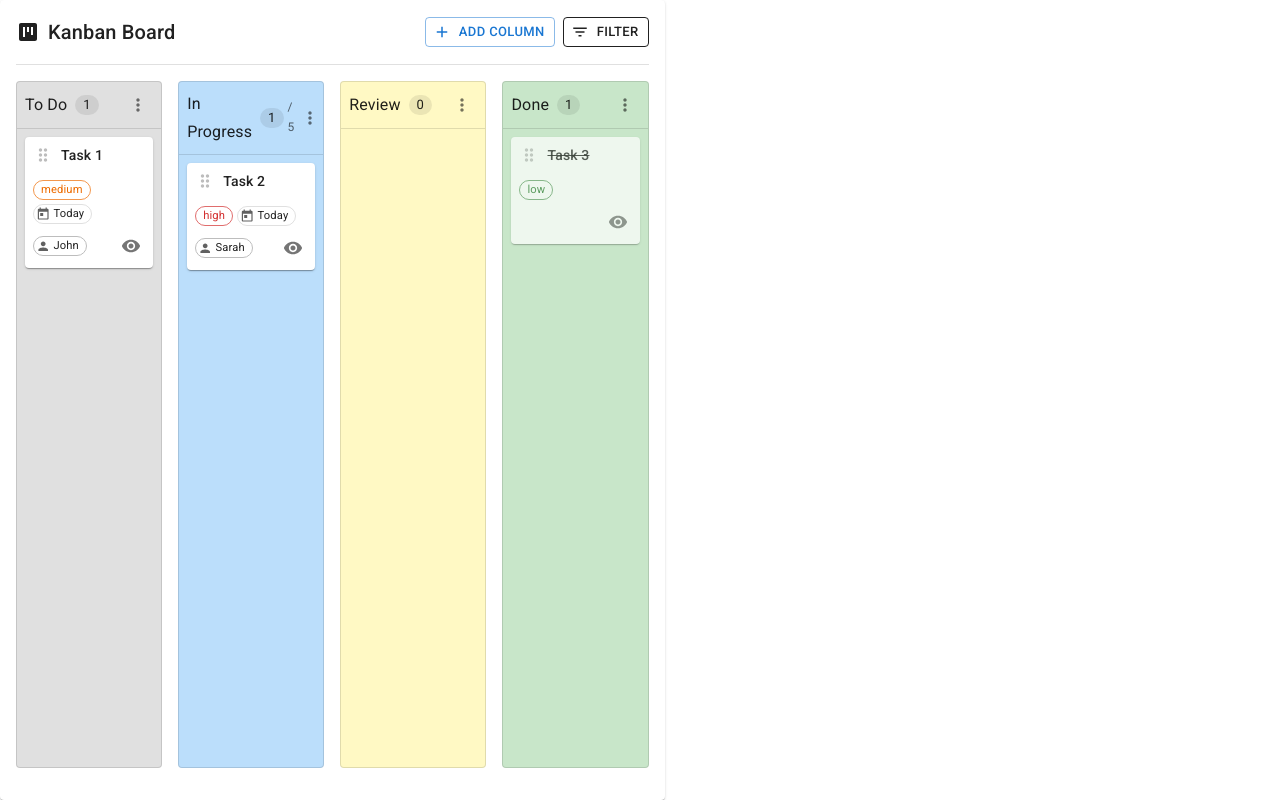
TaskKanbanBoard › saves new column when form is filled and Save is clicked
The width and height of the screenshot is (1280, 800).
// Open dialog
Step 1. Click the button "Add Column" → (490, 32), box [425,17,555,47]
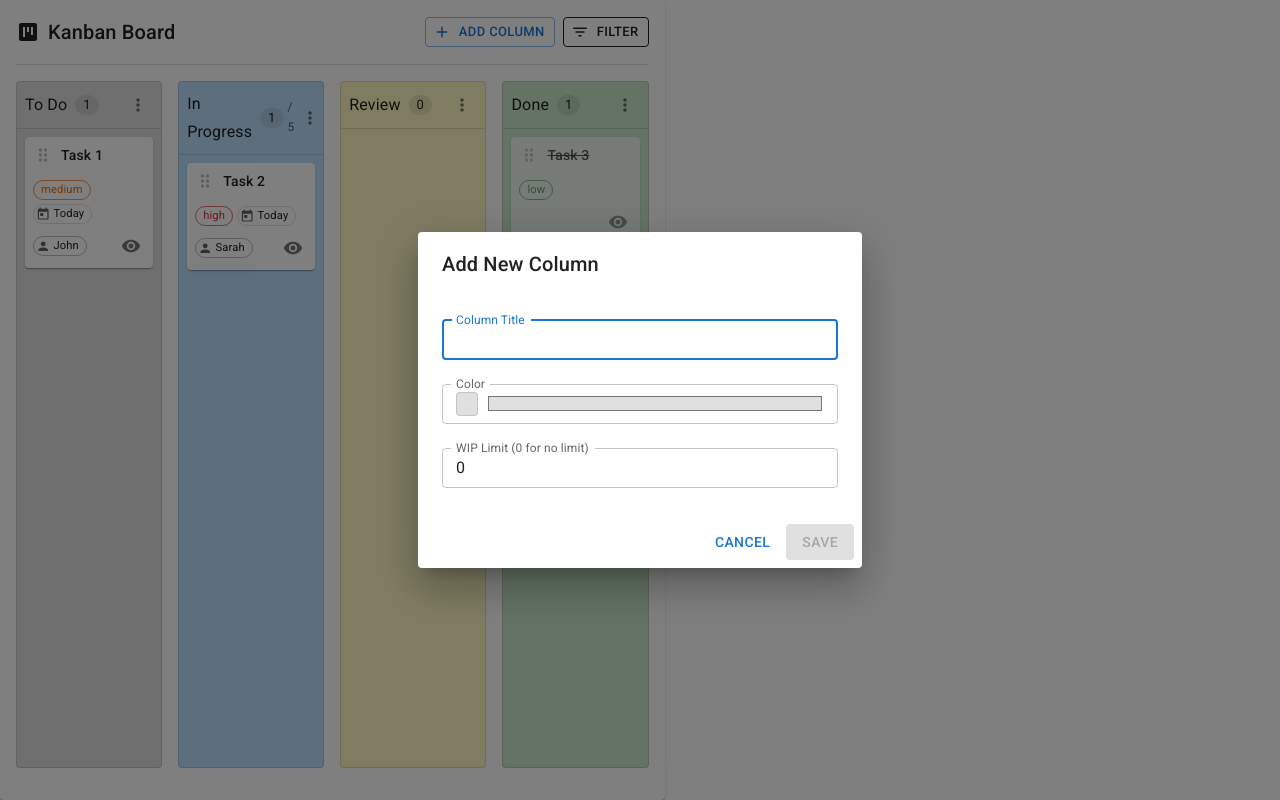
// Fill form
Step 2. Type "New Test Column" into the field labelled "Column Title" → (640, 340), box [442,320,838,360]
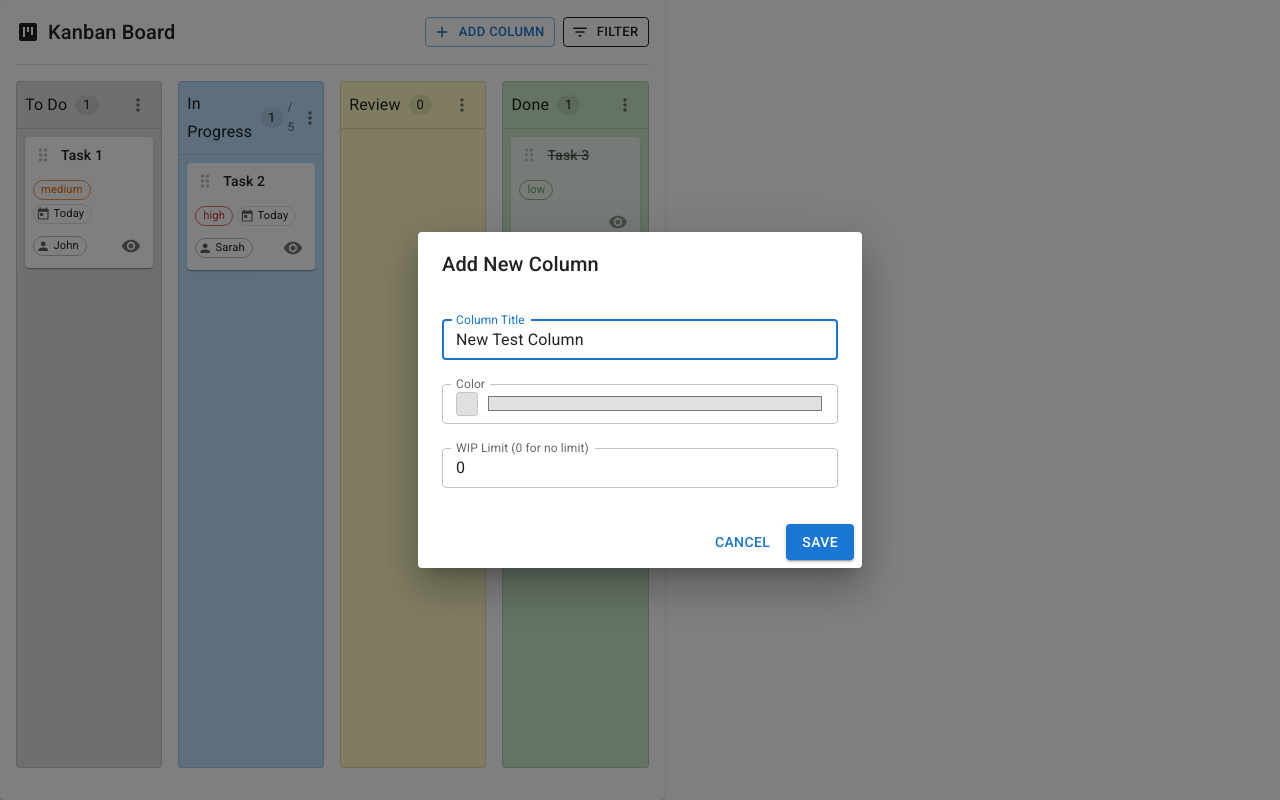
Step 3. Click the button "Save" → (820, 542), box [786,524,854,560]
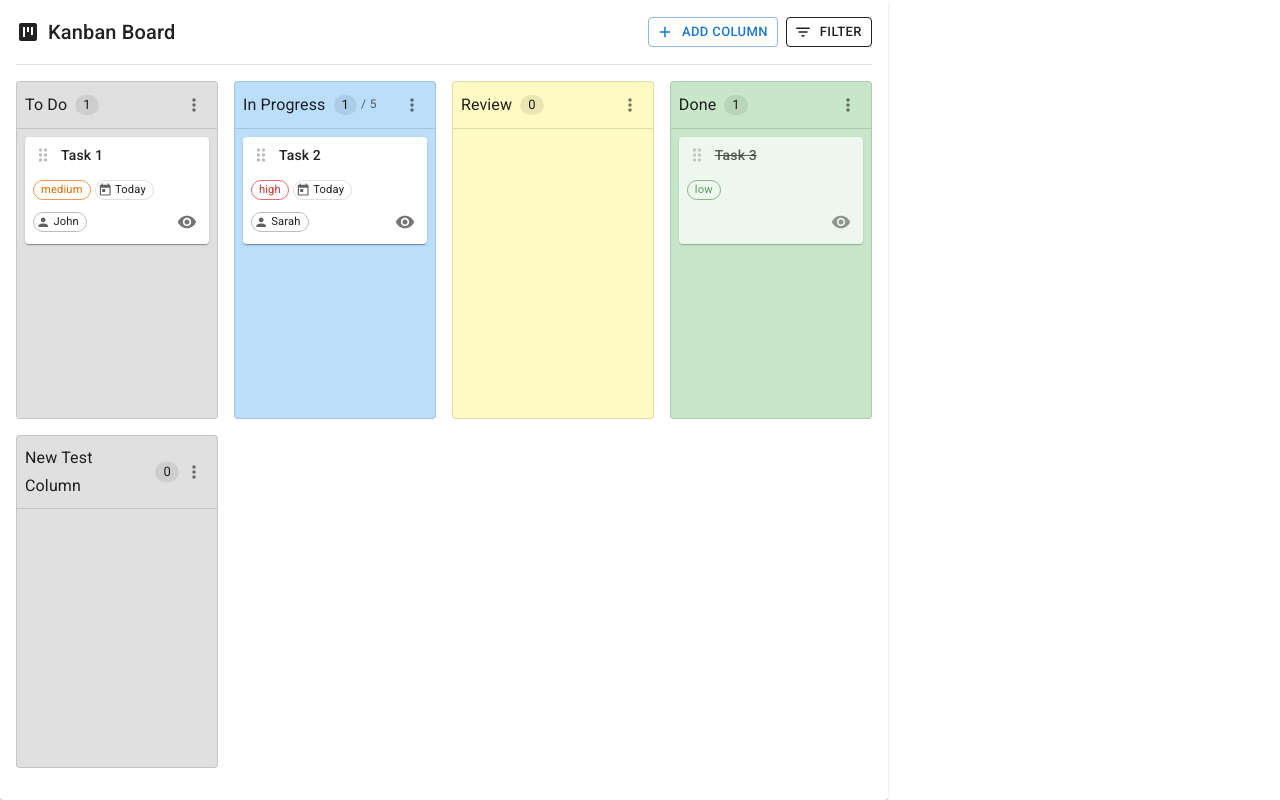
Result: the heading "New Test Column" is shown at [25,448,92,495]
